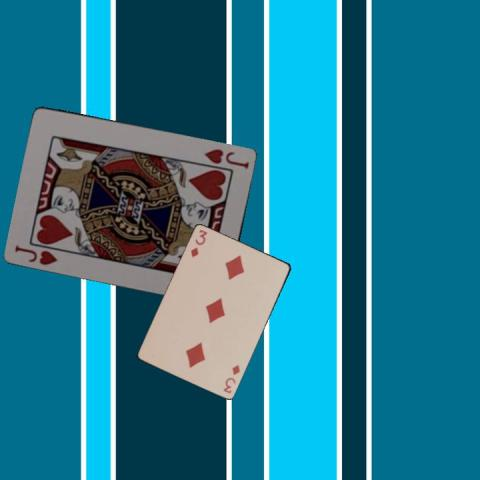3d: (220, 362, 241, 395), (188, 227, 209, 258)
Jh: (201, 145, 251, 171), (12, 241, 60, 267)
